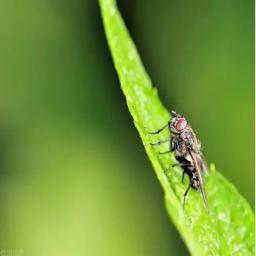liriomyza: (148, 111, 209, 215)
